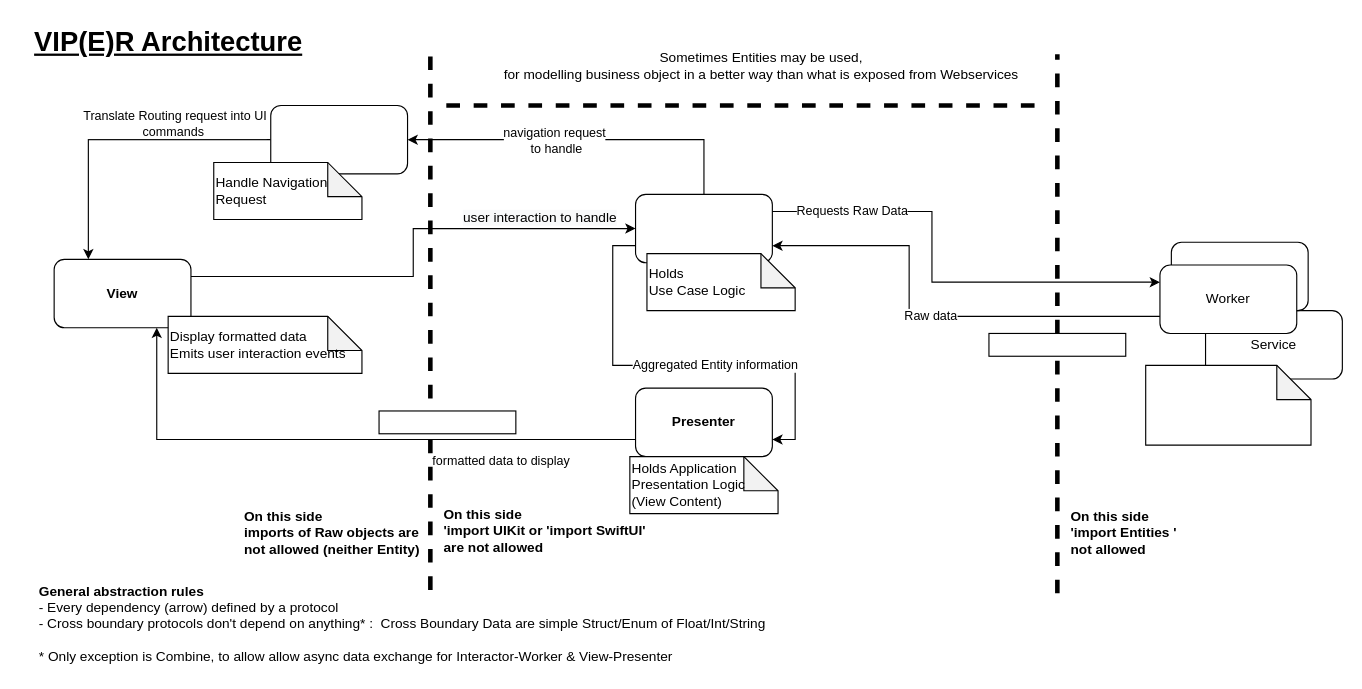
The diagram is 1362 pixels wide and 689 high, and some of its shapes have lost their labels. Each missing label, with the box of its shape:
Interactor: (634, 193, 772, 263)
RawData: (988, 332, 1126, 356)
Retrieve datas from different sources : - WebServices - DataStore: (1145, 364, 1311, 445)
Router: (270, 104, 408, 174)
ViewState: (378, 410, 516, 434)
